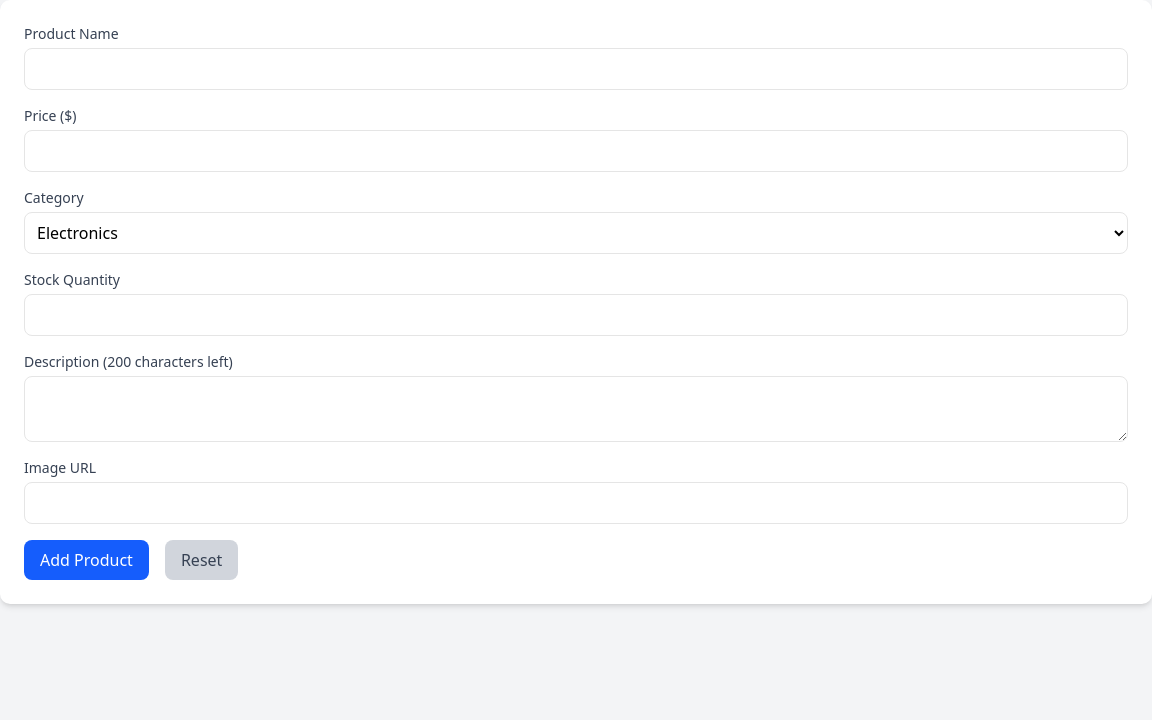
Test: ProductForm › should prevent submission with invalid data
Type "a" into the field labelled "Product Name". click: (576, 69)
box: [24,48,1128,90]
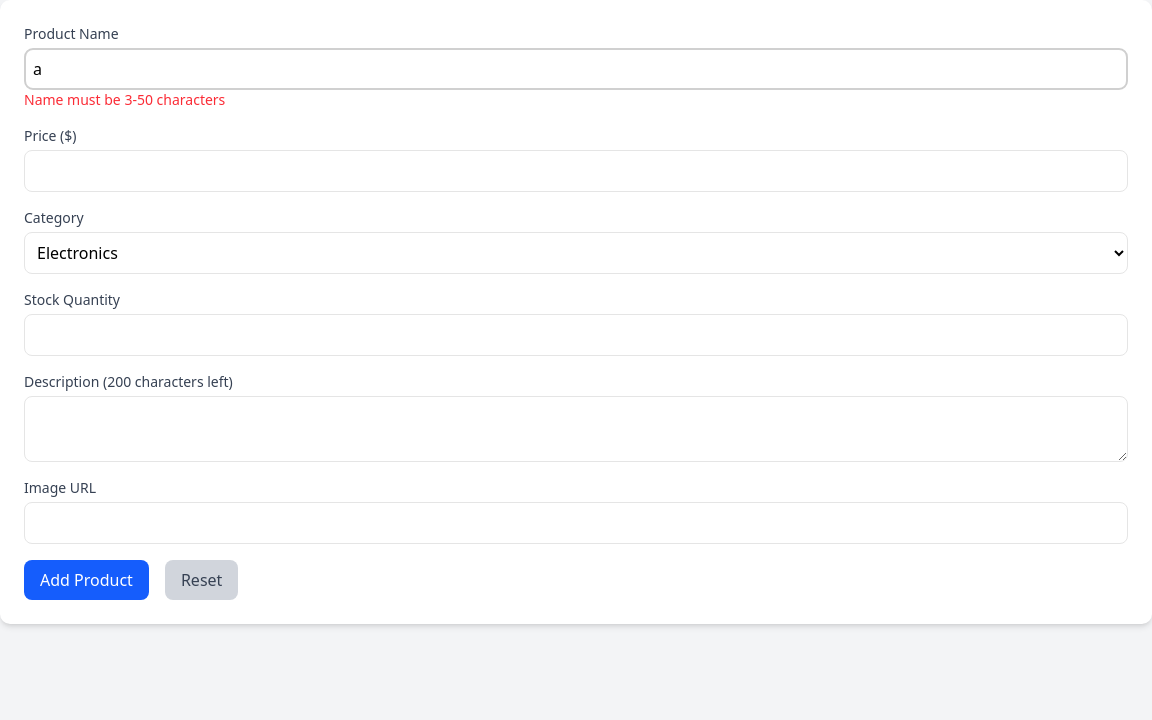
Click the button "Add Product". click: (86, 580)
box: [24,560,149,600]
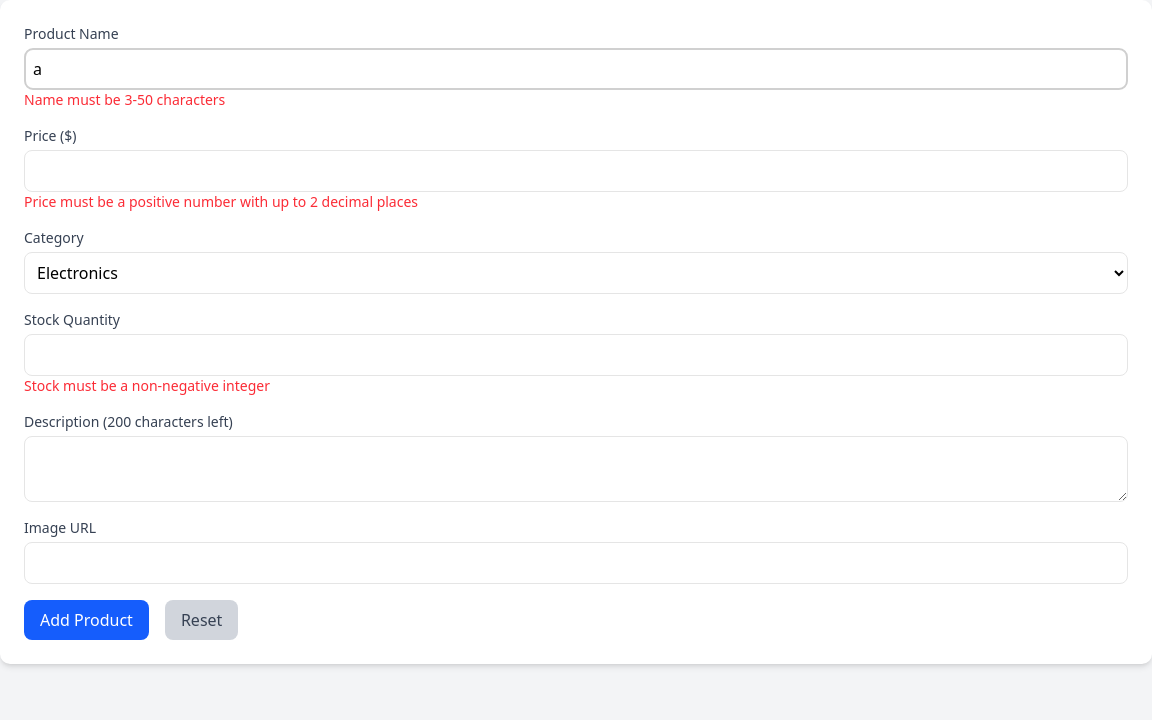
Expected: the text "Name must be 3-50 characters" is shown, [24,90,225,109]
Expected: the text "Price must be a positive number with up to 2 decimal places" is shown, [24,192,418,211]
Expected: the text "Stock must be a non-negative integer" is shown, [24,376,270,395]
